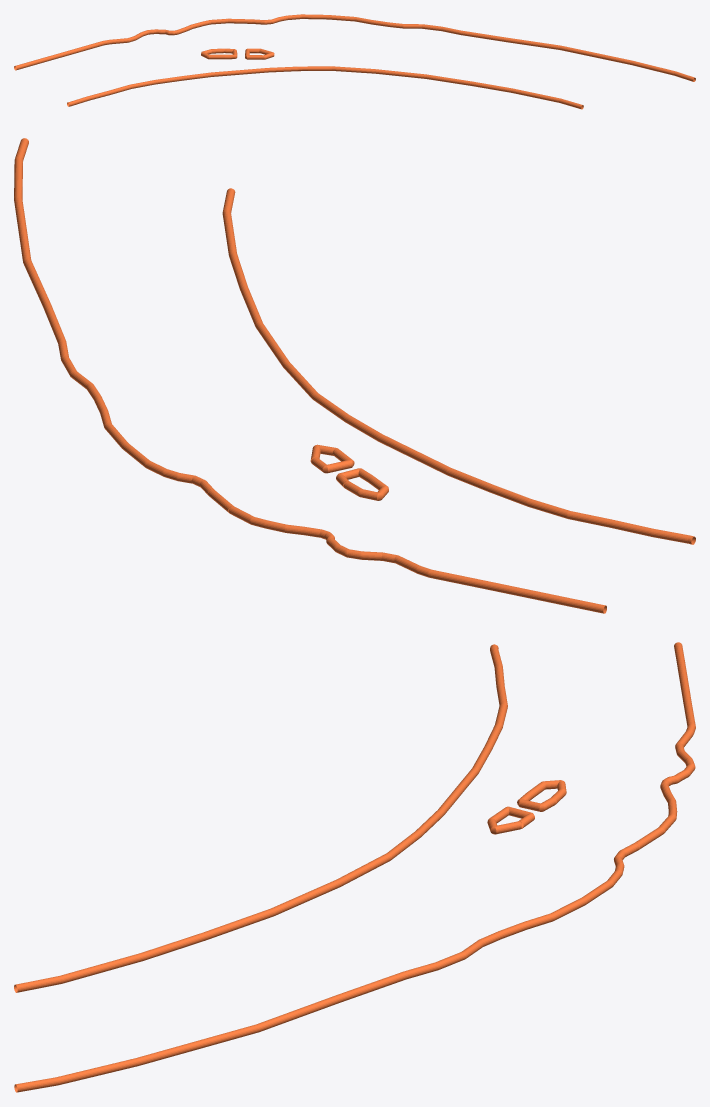
File: Shore1930sLines_0.fbx
The picture shows the model from 3 angles, top to bottom: view 1: azimuth 30°, elevation 25°; view 2: azimuth 150°, elevation 25°; view 3: azimuth 270°, elevation 25°; orthographic projection. The views are drawn at different scales.
Visible parts, largest first — view 1: CityEngineMaterial_m; view 2: CityEngineMaterial_m; view 3: CityEngineMaterial_m.
Part boxes in pixels (x1,y1,x2,y2): CityEngineMaterial_m: [14, 14, 695, 109]; CityEngineMaterial_m: [14, 138, 695, 613]; CityEngineMaterial_m: [14, 642, 695, 1092].
Size of the model in its own units: 621 by 5 by 403.
